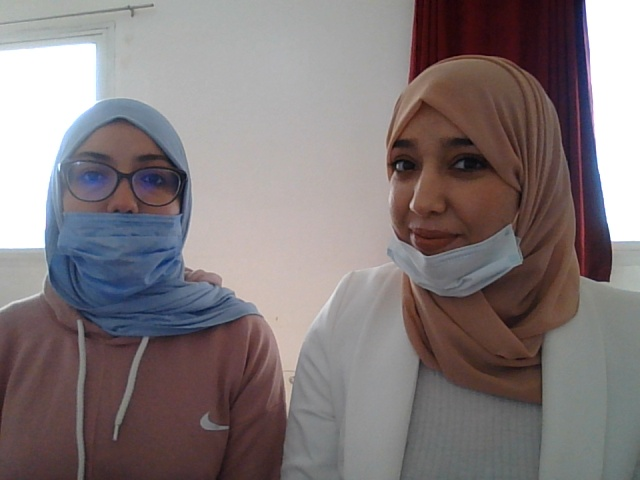mask_weared_incorrect: (367, 63, 535, 300), (44, 95, 231, 304)
